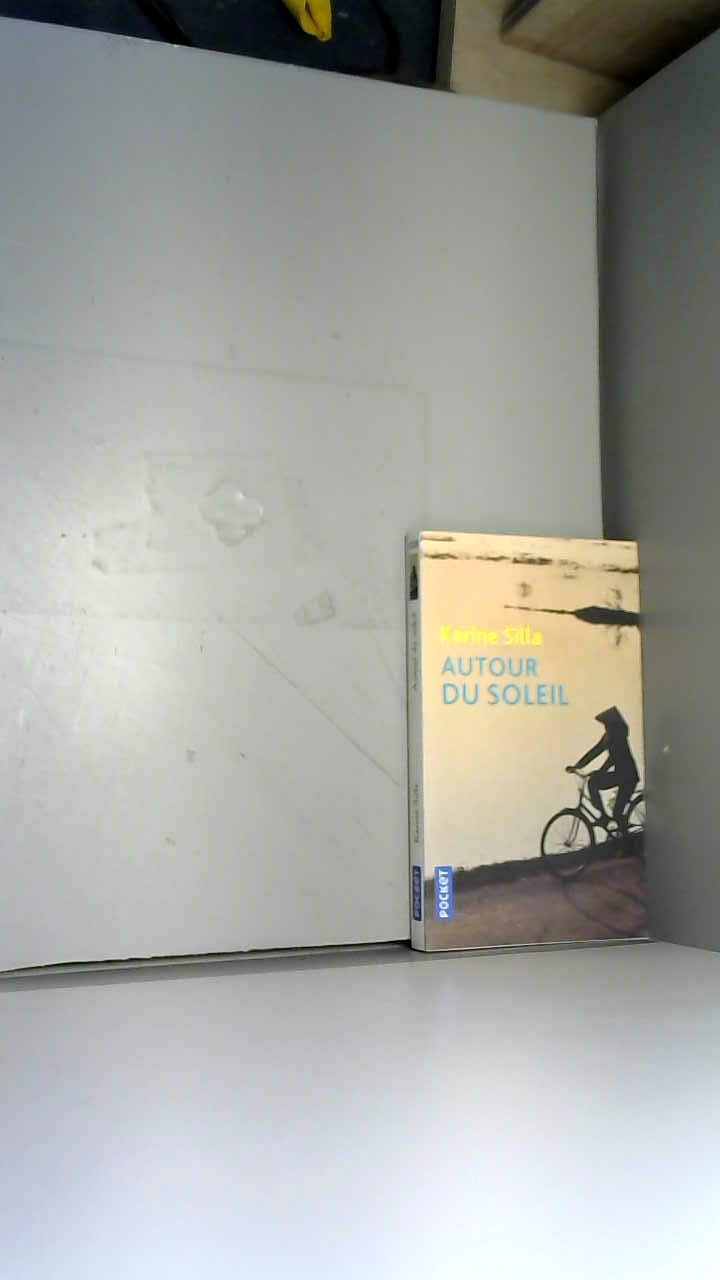book: (368, 488, 692, 1008)
